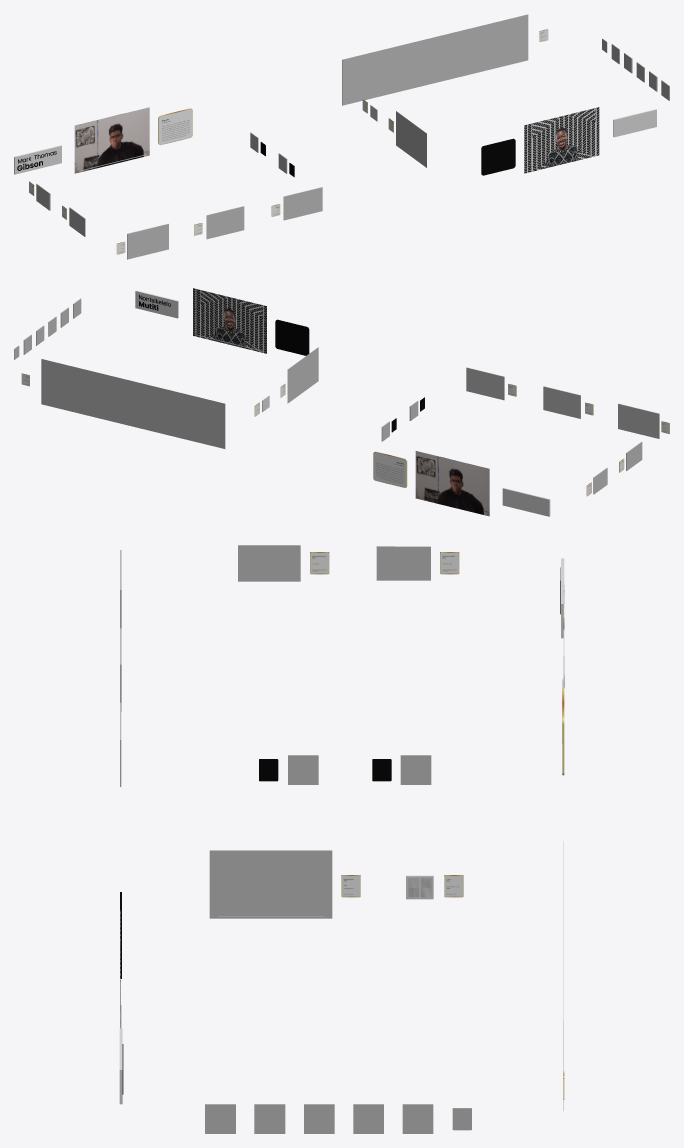
File: Exhibition_Canvas.fbx
The picture shows the model from 3 angles, top to bottom: view 1: azimuth 30°, elevation 25°; view 2: azimuth 150°, elevation 25°; view 3: azimuth 270°, elevation 25°; orthographic projection. The views are drawn at different scales.
Visible parts, largest first — view 1: Mural, Artist_1, Artist_2, Canva_5, Photo_1, Info_2, Info_1, Canva_3, Canva_4, Name_1, Name_2; view 2: Mural, Artist_1, Artist_2, Photo_1, Canva_5, Info_1, Info_2, Canva_3, Canva_4, Name_1, Name_2; view 3: Photo_1, Canva_6, Canva_7, Canva_1, Photo_3, Photo_6, Canva_2, Photo_4, Photo_5, Photo_7.
Boxes of the visible parts, x1=… form: Mural: x1=342, y1=14, x2=528, y2=105; Artist_1: x1=74, y1=107, x2=149, y2=173; Artist_2: x1=524, y1=107, x2=599, y2=173; Canva_5: x1=127, y1=223, x2=168, y2=259; Photo_1: x1=396, y1=111, x2=426, y2=167; Info_2: x1=481, y1=138, x2=515, y2=175; Info_1: x1=158, y1=108, x2=192, y2=145; Canva_3: x1=283, y1=187, x2=322, y2=220; Canva_4: x1=206, y1=206, x2=244, y2=239; Name_1: x1=14, y1=145, x2=61, y2=174; Name_2: x1=613, y1=109, x2=656, y2=137; Mural: x1=41, y1=359, x2=225, y2=448; Artist_1: x1=415, y1=451, x2=489, y2=516; Artist_2: x1=193, y1=288, x2=266, y2=353; Photo_1: x1=287, y1=347, x2=318, y2=403; Canva_5: x1=618, y1=403, x2=659, y2=438; Info_1: x1=373, y1=451, x2=407, y2=487; Info_2: x1=275, y1=319, x2=309, y2=355; Canva_3: x1=466, y1=367, x2=504, y2=400; Canva_4: x1=543, y1=386, x2=580, y2=418; Name_1: x1=502, y1=488, x2=550, y2=516; Name_2: x1=135, y1=290, x2=178, y2=318; Photo_1: x1=209, y1=850, x2=332, y2=918; Canva_6: x1=238, y1=545, x2=300, y2=581; Canva_7: x1=376, y1=546, x2=430, y2=580; Canva_1: x1=400, y1=755, x2=431, y2=784; Photo_3: x1=402, y1=1104, x2=433, y2=1133; Photo_6: x1=254, y1=1104, x2=285, y2=1133; Canva_2: x1=288, y1=755, x2=318, y2=784; Photo_4: x1=353, y1=1104, x2=383, y2=1133; Photo_5: x1=304, y1=1104, x2=334, y2=1133; Photo_7: x1=205, y1=1104, x2=235, y2=1133.
Size of the model in its own units: 4030 by 326 by 1361.
